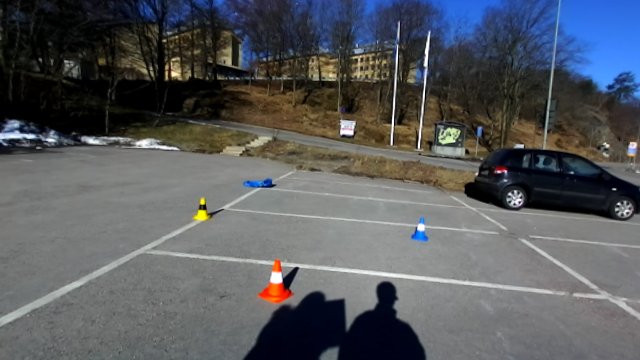blue: (410, 217, 426, 241)
orange: (256, 259, 292, 304)
yellow: (193, 198, 211, 221)
